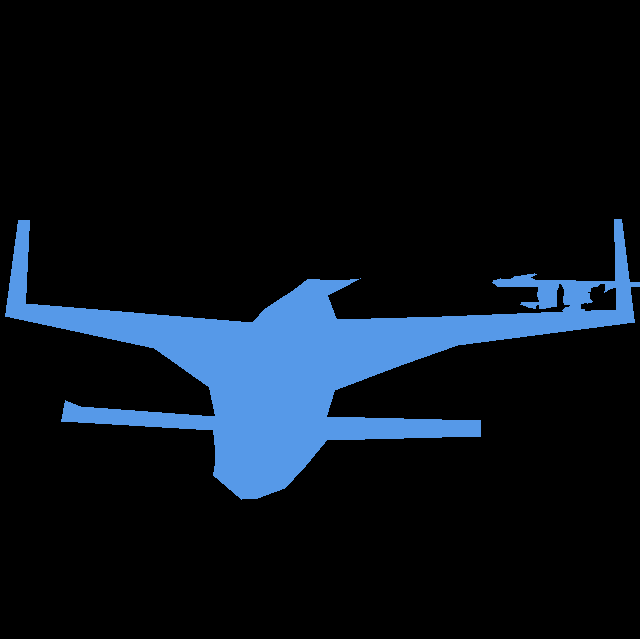Airplane: (5, 219, 634, 500), (492, 273, 640, 313)
